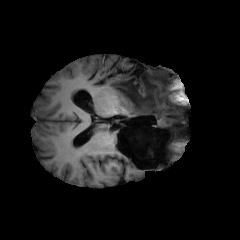glioma: (100, 71, 179, 150)
